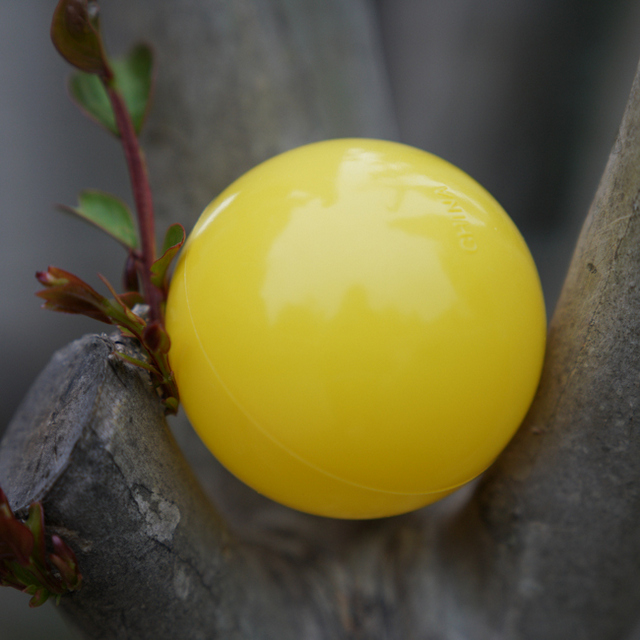Ball: (153, 143, 550, 517)
